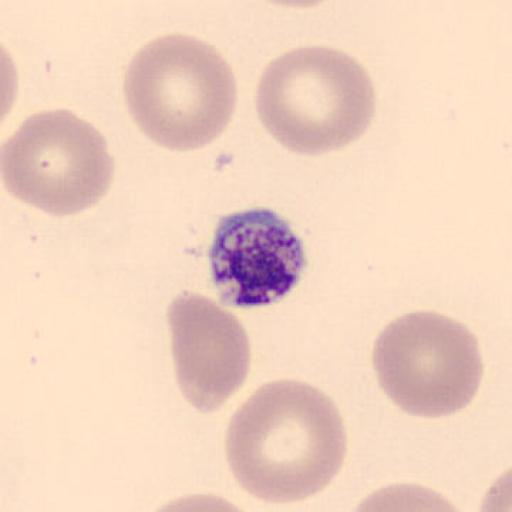Platelet: (206, 206, 312, 309)
RBC: (223, 376, 350, 506), (121, 31, 239, 154), (253, 44, 378, 158), (370, 308, 485, 421), (2, 106, 116, 218), (167, 289, 253, 415), (341, 479, 473, 512), (138, 492, 260, 511), (476, 464, 512, 512), (1, 40, 20, 122), (246, 0, 342, 11)
